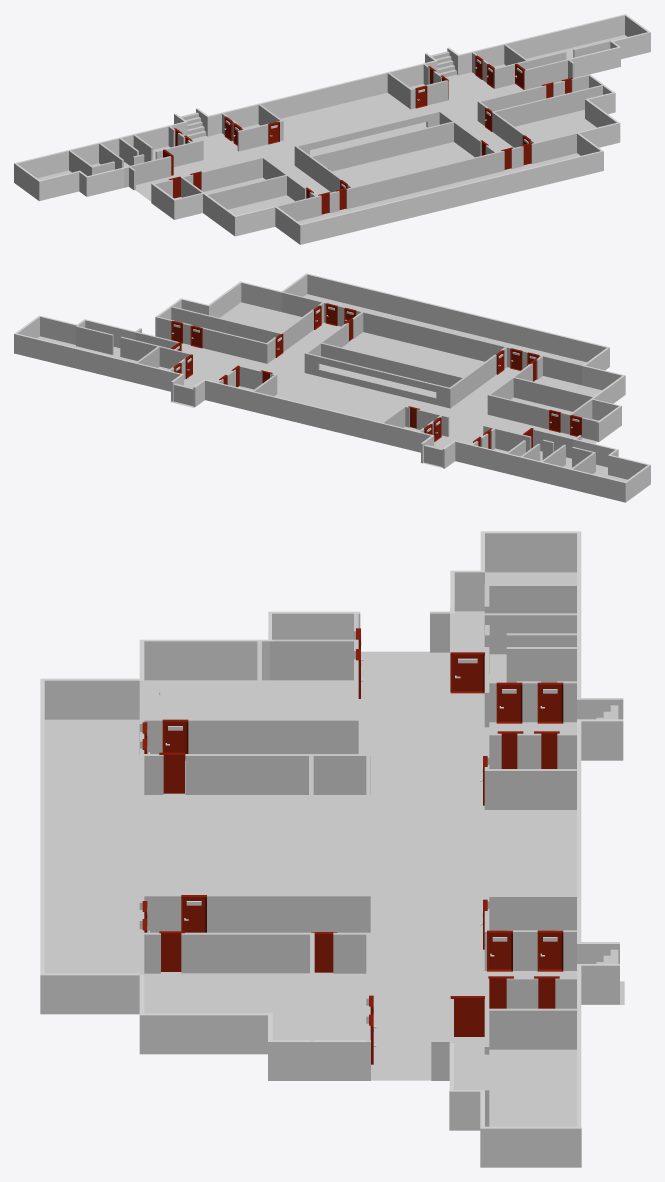
File: First_Floor.fbx
The picture shows the model from 3 angles, top to bottom: view 1: azimuth 30°, elevation 25°; view 2: azimuth 150°, elevation 25°; view 3: azimuth 270°, elevation 25°; orthographic projection. The views are drawn at different scales.
Parts seen in each view (by area): view 1: Cube.025, Plane.002, Cube.011, Cube.061, Cube.010, Cube.032, Cube.006, Plane.000, Cube.058, Cube.007, Cube.019, Cube.027 (+16 smaller); view 2: Cube.025, Plane.002, Cube.011, Cube.061, Cube.032, Cube.010, Cube.000, Cube.006, Plane.000, Cube.058, Cube.002, Cube.028 (+14 smaller); view 3: Plane.002, Cube.025, Plane.000, Cube.007, Cube.008, Cube.003, Cube.009, Cube.023, Cube.040, Cube.031, Cube.033, Cube.051 (+17 smaller).
Boxes of the visible parts, left/top/right/bottom form: Cube.025: left=14, top=14, right=650, bottom=244; Plane.002: left=37, top=35, right=627, bottom=231; Cube.011: left=353, top=152, right=497, bottom=207; Cube.061: left=310, top=121, right=454, bottom=171; Cube.010: left=494, top=84, right=603, bottom=126; Cube.032: left=207, top=175, right=286, bottom=209; Cube.006: left=201, top=156, right=263, bottom=191; Plane.000: left=297, top=153, right=580, bottom=223; Cube.058: left=296, top=110, right=441, bottom=151; Cube.007: left=294, top=146, right=342, bottom=192; Cube.019: left=531, top=132, right=577, bottom=163; Cube.027: left=524, top=58, right=571, bottom=89; Cube.025: left=14, top=273, right=650, bottom=502; Plane.002: left=37, top=302, right=627, bottom=481; Cube.011: left=362, top=311, right=505, bottom=361; Cube.061: left=320, top=342, right=463, bottom=387; Cube.032: left=513, top=377, right=593, bottom=411; Cube.010: left=170, top=306, right=281, bottom=342; Cube.000: left=200, top=327, right=267, bottom=363; Cube.006: left=487, top=394, right=551, bottom=429; Plane.000: left=304, top=294, right=586, bottom=364; Cube.058: left=304, top=353, right=449, bottom=394; Cube.002: left=304, top=367, right=448, bottom=407; Cube.028: left=120, top=336, right=192, bottom=368; Plane.002: left=144, top=572, right=624, bottom=1126; Cube.025: left=40, top=531, right=623, bottom=1167; Plane.000: left=44, top=719, right=139, bottom=973; Cube.007: left=185, top=754, right=370, bottom=794; Cube.008: left=201, top=894, right=366, bottom=932; Cube.003: left=185, top=719, right=356, bottom=753; Cube.009: left=181, top=932, right=314, bottom=973; Cube.023: left=486, top=1008, right=577, bottom=1049; Cube.040: left=486, top=769, right=576, bottom=809; Cube.031: left=269, top=639, right=355, bottom=680; Cube.033: left=486, top=895, right=576, bottom=930; Cube.051: left=484, top=584, right=576, bottom=613.
Bounding box in the file's own units: 6569 × 427 × 2718.
